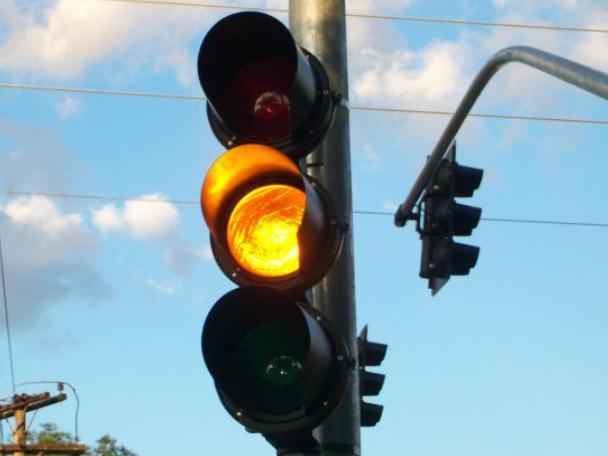yellow_light: (198, 11, 356, 434)
